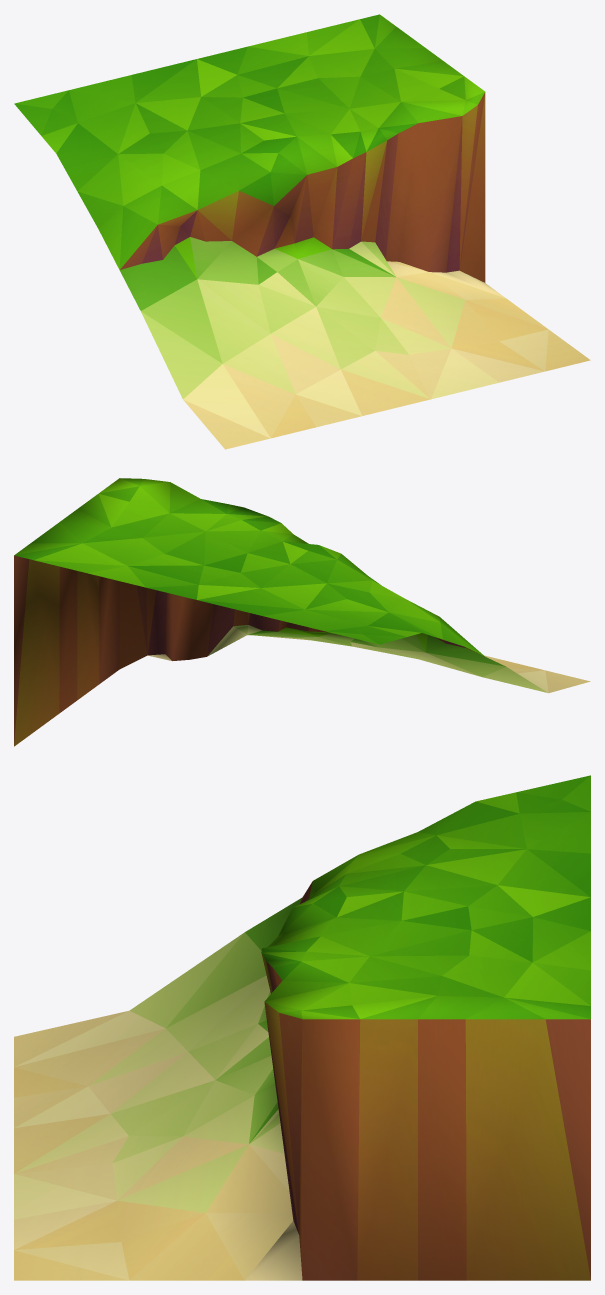
Rendered from GL-Terrain-part-13.fbx.
3 renders of one model, top to bottom at view 1: azimuth 30°, elevation 25°; view 2: azimuth 150°, elevation 25°; view 3: azimuth 270°, elevation 25°, orthographic. The views are drawn at different scales.
Visible parts, largest first — view 1: GL-Terrain-part-13; view 2: GL-Terrain-part-13; view 3: GL-Terrain-part-13.
Boxes of the visible parts, <box> form: GL-Terrain-part-13: <box>14,14,590,449</box>; GL-Terrain-part-13: <box>14,478,590,746</box>; GL-Terrain-part-13: <box>14,775,590,1280</box>.
Bounding box in the file's own units: 6 × 3 × 6.
